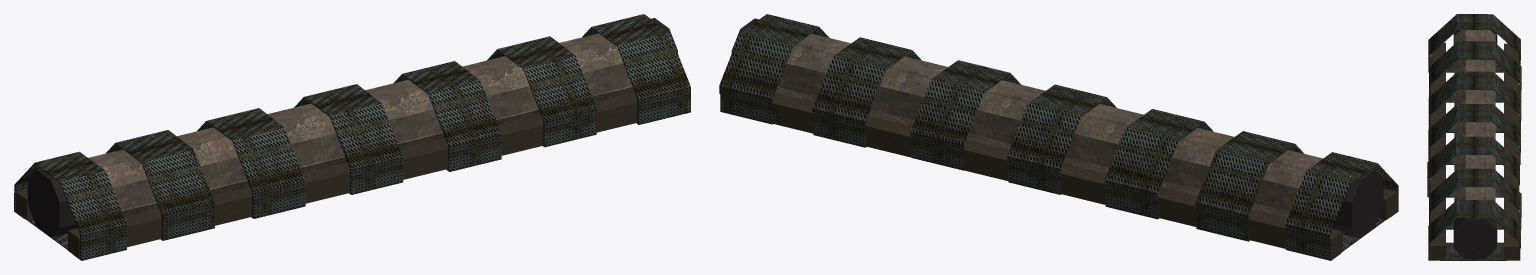
File: longpipe.fbx
The picture shows the model from 3 angles, left to right: view 1: azimuth 30°, elevation 25°; view 2: azimuth 150°, elevation 25°; view 3: azimuth 270°, elevation 25°; orthographic projection. The views are drawn at different scales.
Parts seen in each view (by area): view 1: Object; view 2: Object; view 3: Object.
Part boxes in pixels (bbox=[...]): Object: bbox=[14, 14, 690, 260]; Object: bbox=[719, 14, 1398, 260]; Object: bbox=[1427, 14, 1521, 260].
Bounding box in the file's own units: 19053 × 1888 × 3691.
